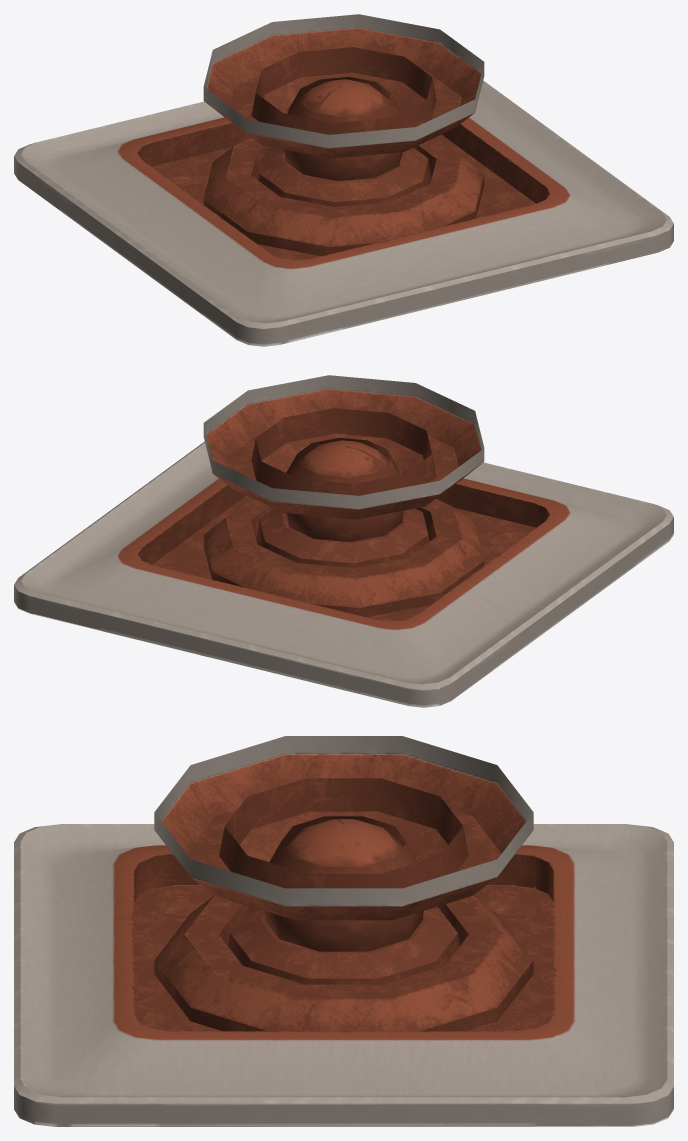
File: lightpanel.fbx
3 views of the same model, one above another, from view 1: azimuth 30°, elevation 25°; view 2: azimuth 150°, elevation 25°; view 3: azimuth 270°, elevation 25° (orthographic). The views are drawn at different scales.
Parts seen in each view (by area): view 1: Cube.002, Cube.001; view 2: Cube.002, Cube.001; view 3: Cube.002, Cube.001.
Boxes of the visible parts, bbox=[...] form: Cube.002: bbox=[14, 80, 673, 346]; Cube.001: bbox=[203, 14, 484, 180]; Cube.002: bbox=[14, 441, 673, 707]; Cube.001: bbox=[203, 375, 484, 541]; Cube.002: bbox=[14, 824, 673, 1126]; Cube.001: bbox=[154, 736, 533, 951].
Bounding box in the file's own units: 620 × 182 × 620.
1 material, 1 textured.
